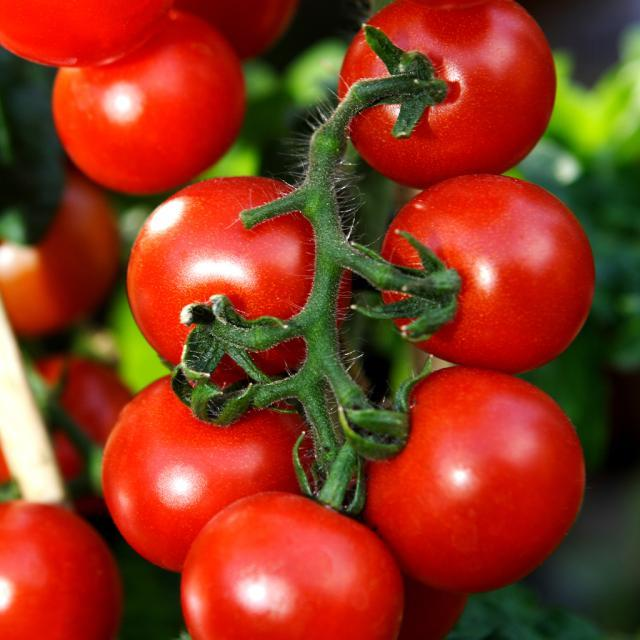kirmizi: (118, 190, 588, 636)
